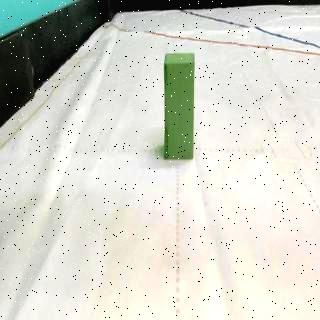greenbox: (162, 50, 196, 162)
